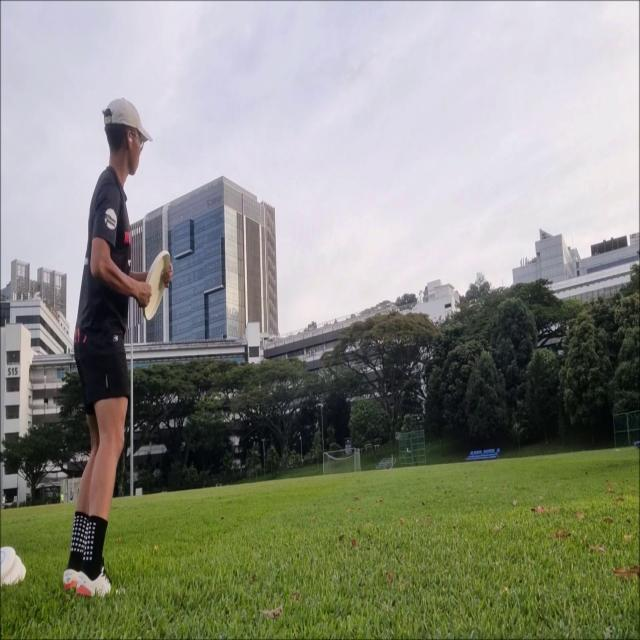disc: (144, 247, 172, 323)
